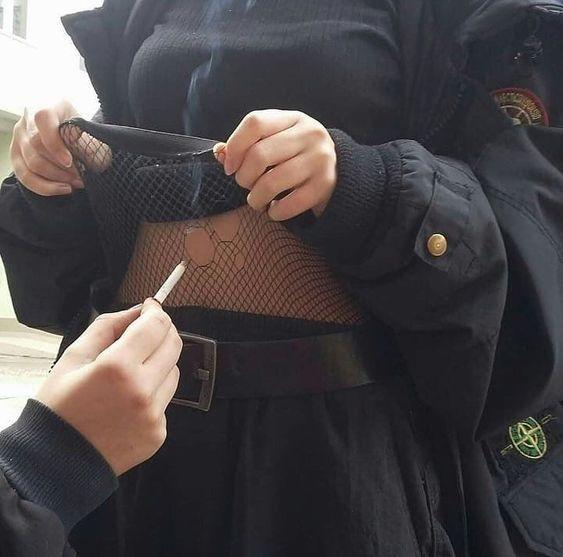cigarette: (153, 260, 188, 305)
